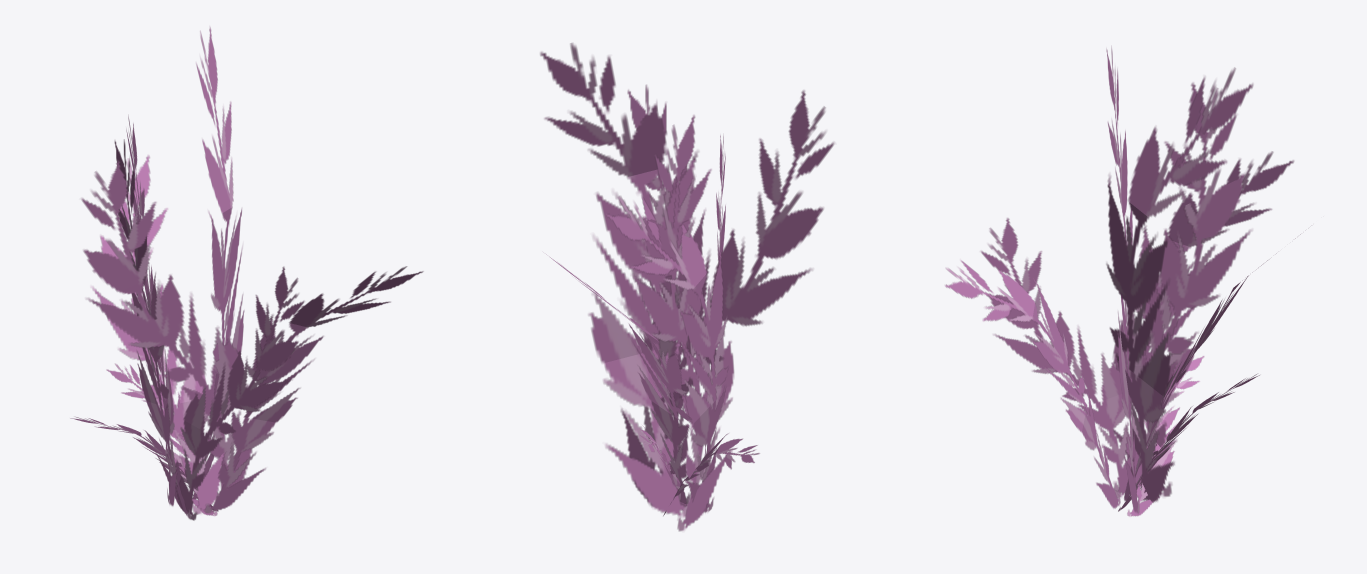
File: Plant_6.glb
The picture shows the model from 3 angles, left to right: view 1: azimuth 30°, elevation 25°; view 2: azimuth 150°, elevation 25°; view 3: azimuth 270°, elevation 25°; orthographic projection. The views are drawn at different scales.
Visible parts, largest first — view 1: Plant_6; view 2: Plant_6; view 3: Plant_6.
Boxes of the visible parts, box(x1,y1,x2,y2) form: Plant_6: box(70, 27, 423, 520); Plant_6: box(540, 43, 834, 531); Plant_6: box(945, 46, 1300, 516).
Bounding box in the file's own units: 0.9035 × 1.17 × 0.8832.
Materials: 1 (1 with a texture image).
